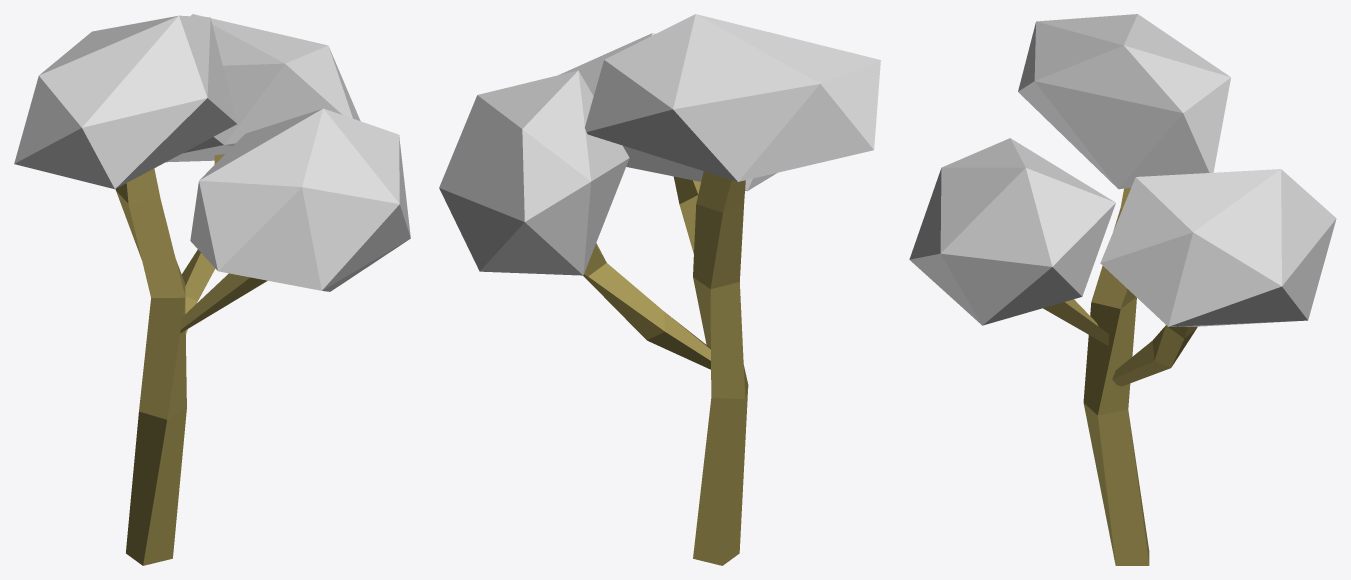
Rendered from Tree_Winter_4.fbx.
3 renders of one model, left to right at view 1: azimuth 30°, elevation 25°; view 2: azimuth 150°, elevation 25°; view 3: azimuth 270°, elevation 25°, orthographic. The views are drawn at different scales.
Parts seen in each view (by area): view 1: Leaves.001, Leaves.002, Trunk, Leaves, Trunk.001, Trunk.002; view 2: Leaves.002, Leaves, Trunk, Trunk.002, Leaves.001, Trunk.001; view 3: Leaves, Leaves.002, Leaves.001, Trunk, Trunk.002, Trunk.001.
Part boxes in pixels (x1,y1,x2,y2): Leaves.001: (190,108,410,291); Leaves.002: (14,15,237,189); Trunk: (115,168,186,565); Leaves: (166,14,360,162); Trunk.001: (180,273,267,333); Trunk.002: (182,154,224,334); Leaves.002: (585,14,880,181); Leaves: (439,70,629,275); Trunk: (693,171,748,565); Trunk.002: (583,243,710,369); Leaves.001: (558,33,776,191); Trunk.001: (674,176,700,253); Leaves: (1100,169,1336,326); Leaves.002: (1018,14,1230,189); Leaves.001: (909,138,1115,325); Trunk: (1083,188,1149,565); Trunk.002: (1112,325,1197,386); Trunk.001: (1043,299,1109,345).
Bounding box in the file's own units: 239 × 321 × 237.
